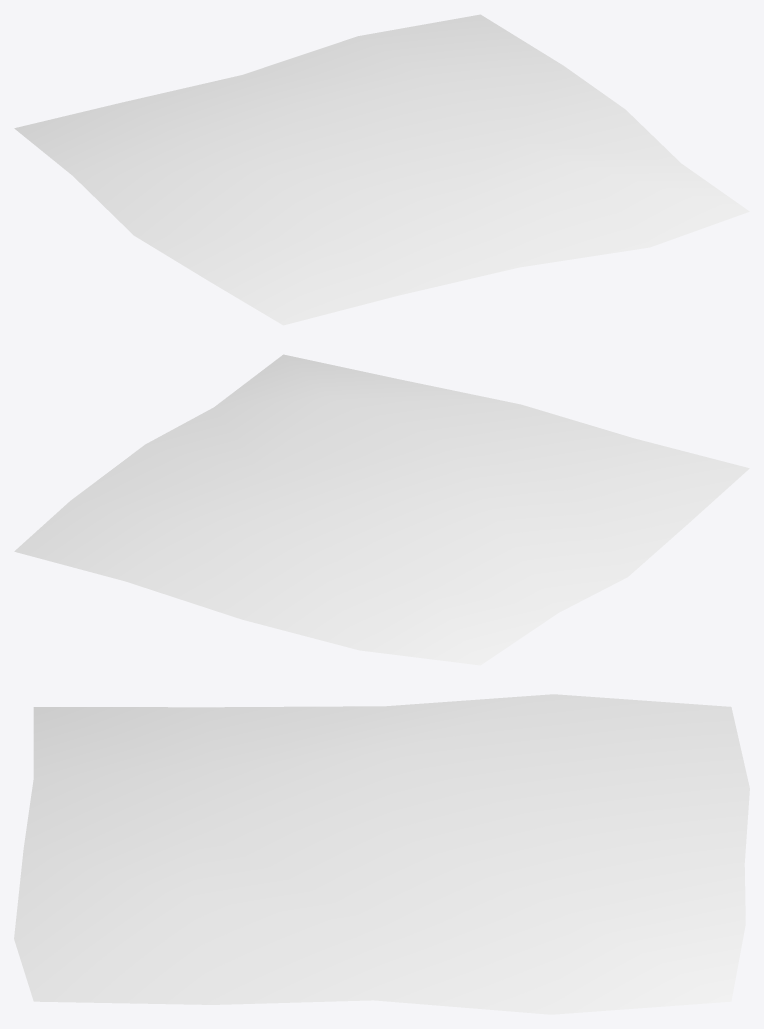
File: SM_Env_Growth_Plane_01.glb
3 renders of one model, top to bottom at view 1: azimuth 30°, elevation 25°; view 2: azimuth 150°, elevation 25°; view 3: azimuth 270°, elevation 25°, orthographic. The views are drawn at different scales.
Parts seen in each view (by area): view 1: SM_Env_Growth_Plane_01; view 2: SM_Env_Growth_Plane_01; view 3: SM_Env_Growth_Plane_01.
Part boxes in pixels (x1,y1,x2,y2): SM_Env_Growth_Plane_01: (14,14,749,325); SM_Env_Growth_Plane_01: (14,354,749,665); SM_Env_Growth_Plane_01: (14,694,749,1014).
Size of the model in its own units: 3.05 by 0.2025 by 3.04.
Materials: 1 (1 with a texture image).
